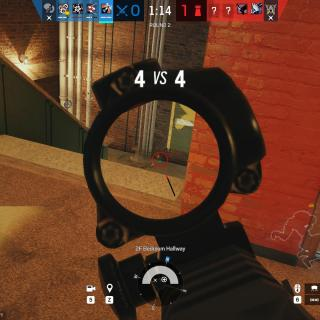Friend_label: (303, 203, 319, 214)
